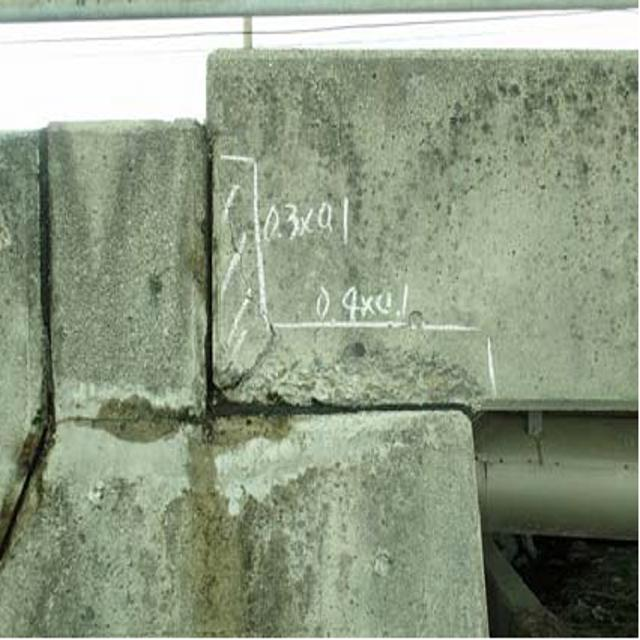spalling: (210, 323, 500, 431)
